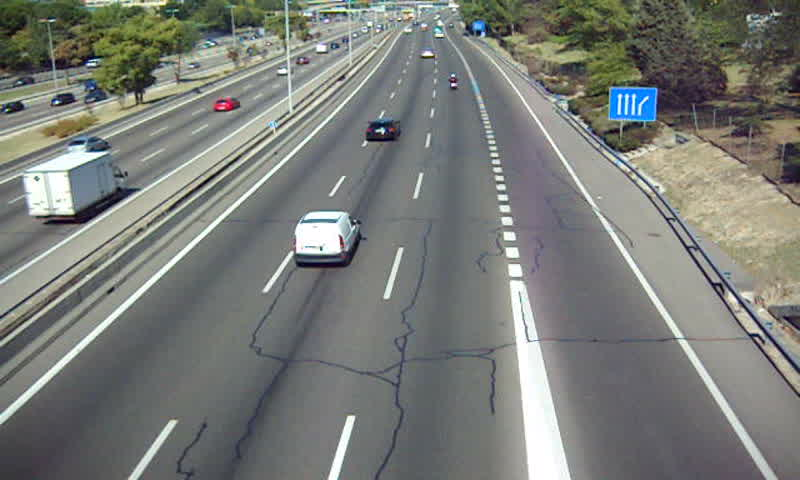car: (365, 118, 400, 142), (420, 50, 435, 60)
motorcycle: (448, 73, 460, 91)
van: (292, 211, 362, 266)
